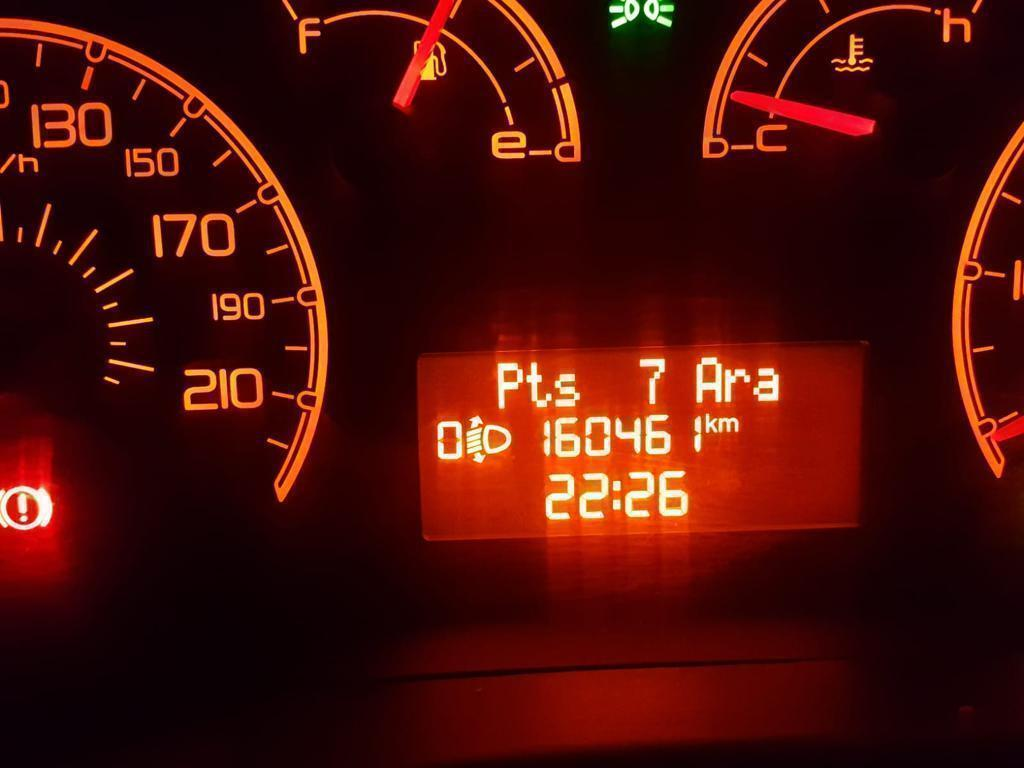0: (582, 413, 613, 458), (433, 418, 464, 462)
1: (684, 411, 704, 455), (536, 417, 553, 458)
2: (541, 469, 576, 522), (577, 469, 610, 521), (624, 467, 654, 521)
4: (613, 415, 643, 456)
6: (656, 467, 691, 520), (643, 411, 673, 457), (554, 414, 582, 459)
7: (635, 354, 667, 409)
X: (493, 357, 525, 411), (692, 354, 723, 405), (525, 358, 553, 409), (752, 364, 782, 404), (554, 369, 583, 409), (722, 364, 751, 404), (718, 415, 741, 434), (612, 476, 623, 513), (704, 410, 718, 435)
odometer: (408, 335, 876, 547)
